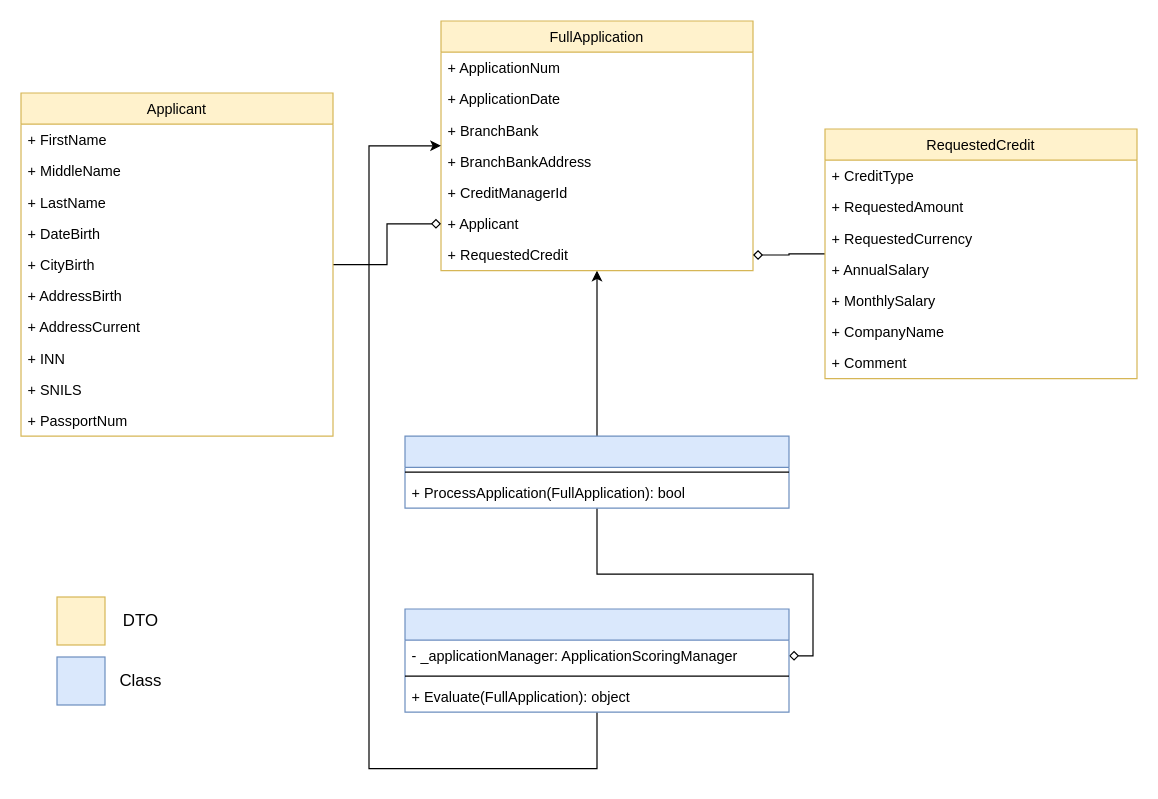
This 1158x799 diagram has some shape labels left out. The box of each missing label's shape, as (x1, y1, x2, y2) in pixels:
ApplicationScoringManager: (404, 435, 789, 508)
ScoringApplicationController: (404, 608, 789, 712)
